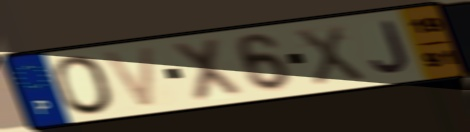6: (234, 32, 293, 93)
J: (369, 19, 412, 75)
O: (50, 53, 119, 116)
V: (98, 43, 159, 111)
X: (168, 35, 247, 104), (291, 23, 368, 89)
